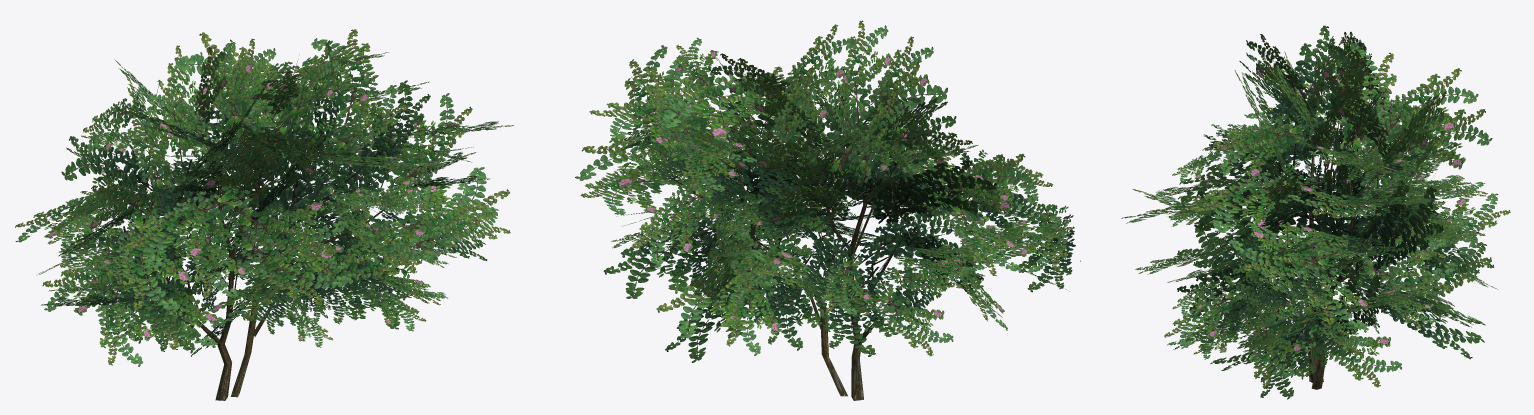
File: tree0.fbx
3 renders of one model, left to right at view 1: azimuth 30°, elevation 25°; view 2: azimuth 150°, elevation 25°; view 3: azimuth 270°, elevation 25°, orthographic. The views are drawn at different scales.
Parts seen in each view (by area): view 1: Tree; view 2: Tree; view 3: Tree.
Boxes of the visible parts, left/top/right/bottom form: Tree: left=15, top=29, right=513, bottom=400; Tree: left=575, top=20, right=1080, bottom=400; Tree: left=1121, top=25, right=1510, bottom=399.
Bounding box in the file's own units: 27.3 × 18.92 × 20.19.
Materials: 1 (1 with a texture image).
